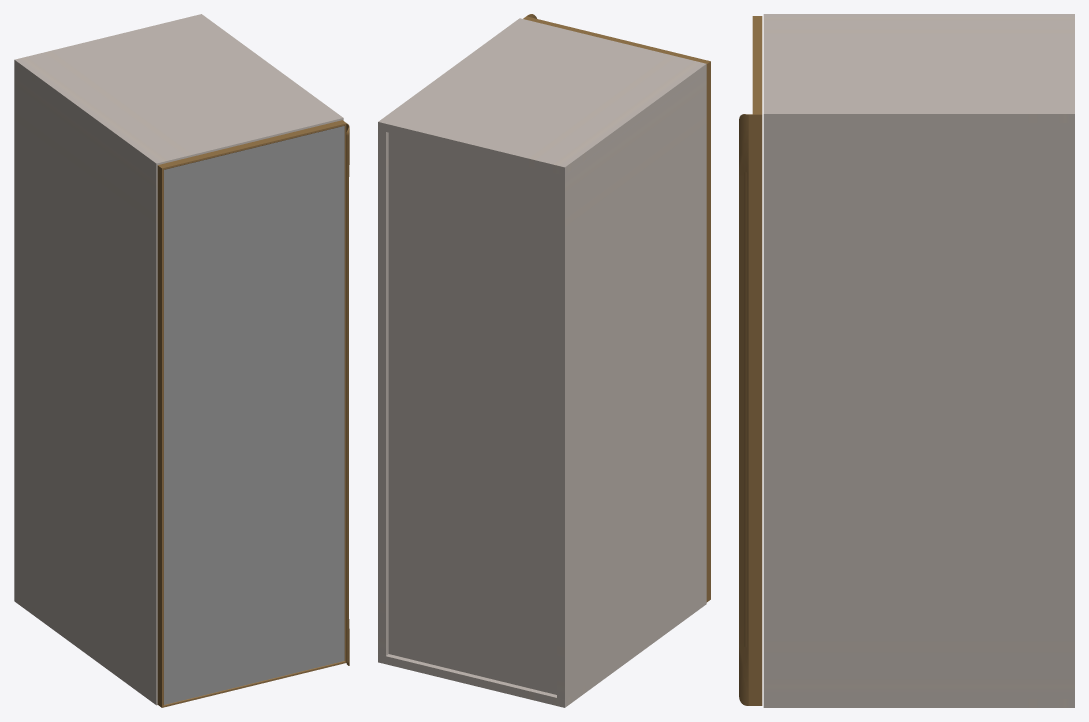
The picture shows the model from 3 angles, left to right: view 1: azimuth 30°, elevation 25°; view 2: azimuth 150°, elevation 25°; view 3: azimuth 270°, elevation 25°; orthographic projection. The views are drawn at different scales.
Parts seen in each view (by area): view 1: Object_4.002; view 2: Object_4.002; view 3: Object_4.002.
Part boxes in pixels (left/top/right/bottom): Object_4.002: left=14, top=14, right=349, bottom=707; Object_4.002: left=378, top=14, right=710, bottom=707; Object_4.002: left=739, top=14, right=1074, bottom=707.
Size of the model in its own units: 0.434 by 1.2 by 0.6149.
Materials: 3 (2 with a texture image).
